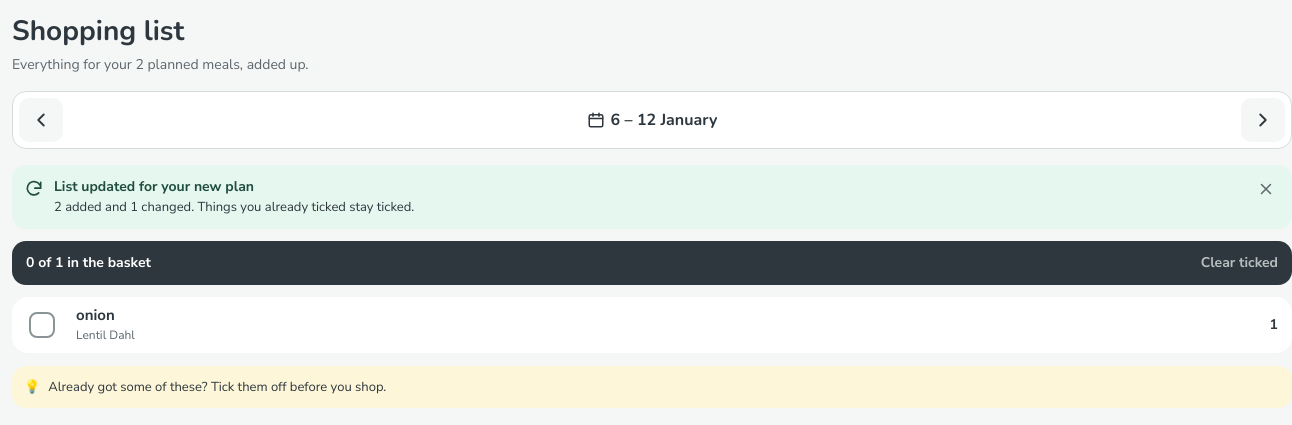
Test: ShoppingPage › shows what changed and hides the banner when dismissed
The width and height of the screenshot is (1292, 425).
Expected: the text "2 added and 1 changed." is shown, [54,198,194,216]
Click the button named "Dismiss".
click(1266, 189)  # box [1244,167,1288,211]
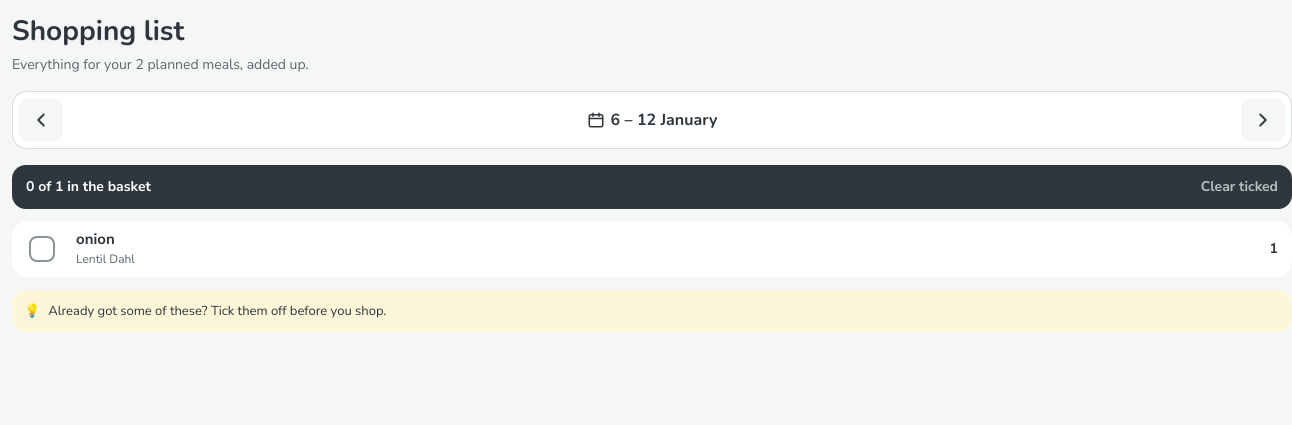
Expected: the text "List updated for your new plan" is gone
